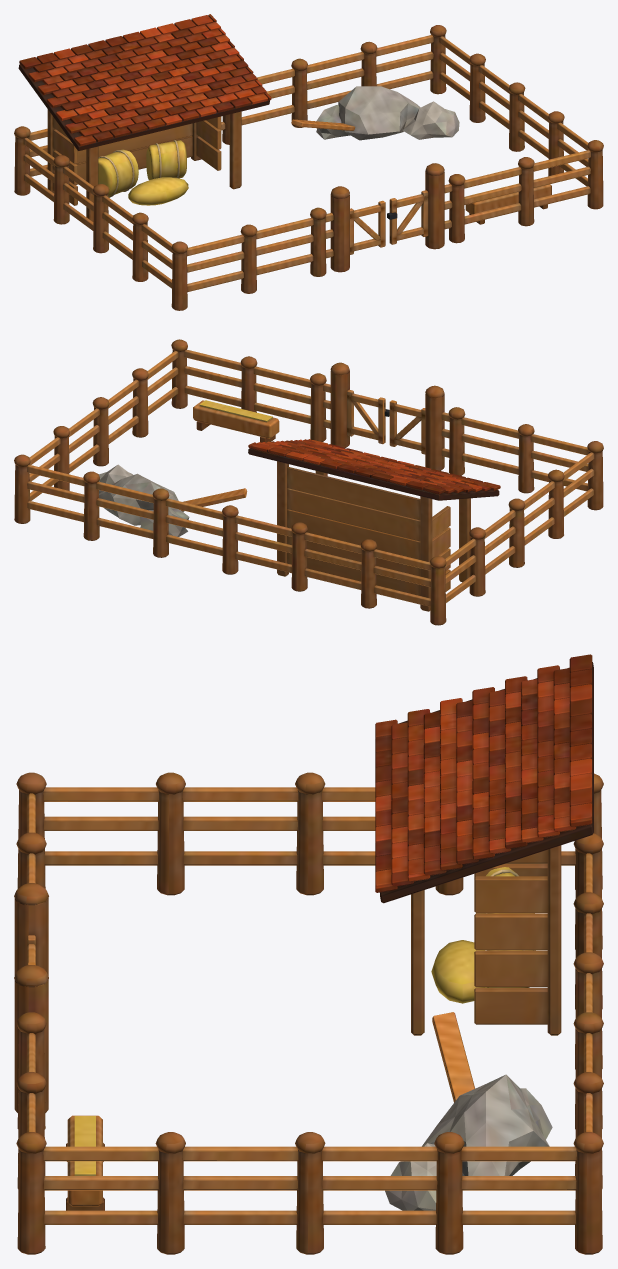
Rendered from boer_yard.glb.
3 renders of one model, top to bottom at view 1: azimuth 30°, elevation 25°; view 2: azimuth 150°, elevation 25°; view 3: azimuth 270°, elevation 25°, orthographic. The views are drawn at different scales.
Visible parts, largest first — view 1: boer_yard, gate1, gate0; view 2: boer_yard, gate1, gate0; view 3: boer_yard.
Part boxes in pixels (x1,y1,x2,y2): boer_yard: [14, 14, 603, 310]; gate1: [387, 190, 428, 244]; gate0: [350, 200, 385, 254]; boer_yard: [14, 339, 603, 625]; gate1: [347, 389, 389, 444]; gate0: [389, 400, 425, 454]; boer_yard: [14, 654, 603, 1254].
Bounding box in the file's own units: 3 × 0.9343 × 2.01.
Materials: 1 (1 with a texture image).
